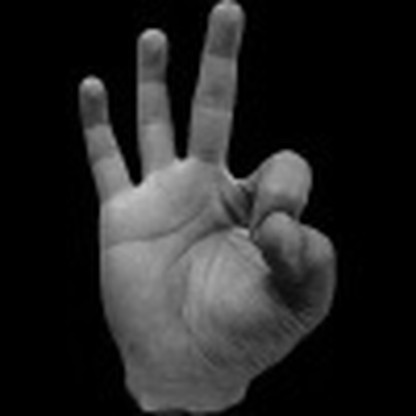f: (60, 1, 347, 385)
